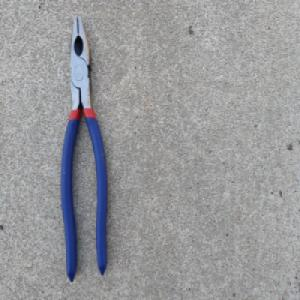Pliers: (58, 11, 109, 283)
